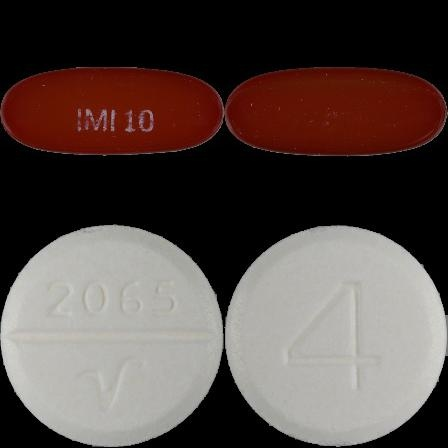55289-907: (0, 0, 224, 224)
